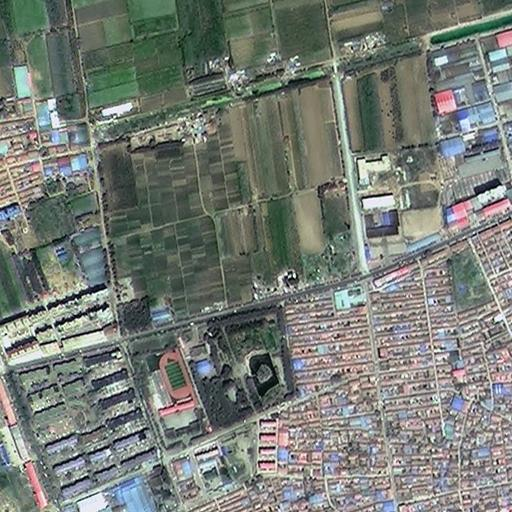school: (124, 329, 212, 455), (353, 150, 443, 261), (442, 168, 511, 233)
